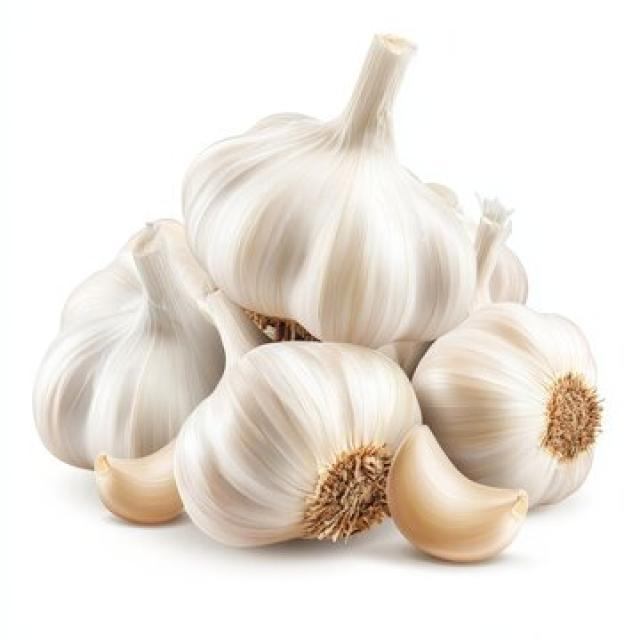Garlic: (180, 30, 478, 350), (30, 217, 267, 469), (171, 338, 421, 548), (410, 301, 602, 508), (384, 423, 528, 562), (423, 180, 528, 308), (92, 430, 185, 524)
